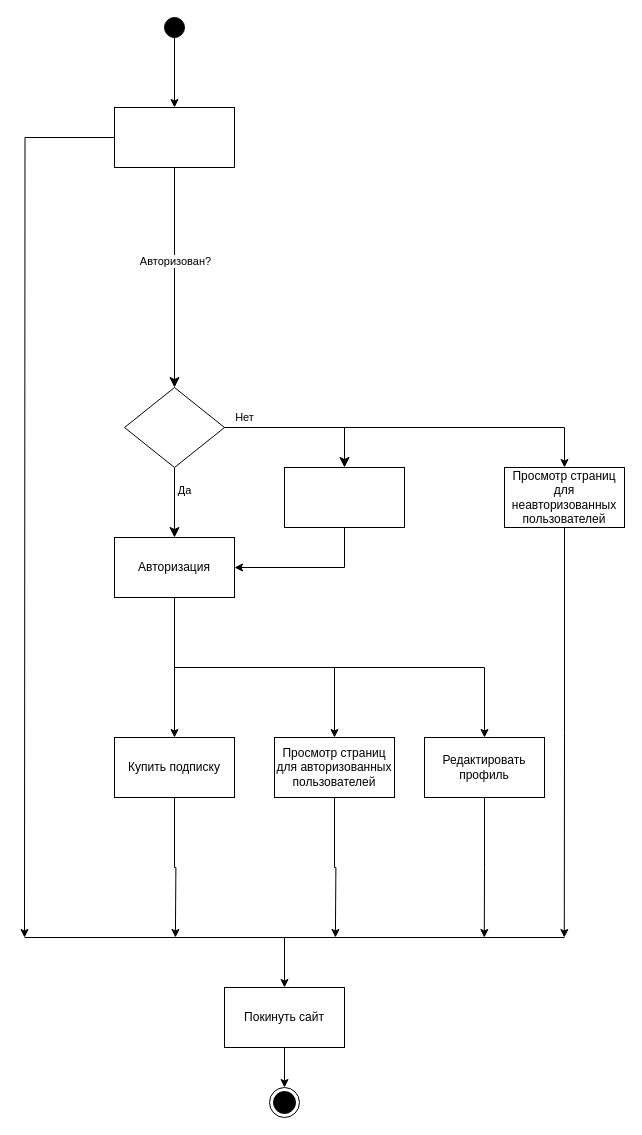
Image size: 642x1135. Some labels were removed from this diagram. Here are the shapes that lost their labels. From the top down, the centre of each, then its label:
At point (174, 137): "Открыть сайт".
At point (344, 497): "Войти в аккаунт".
